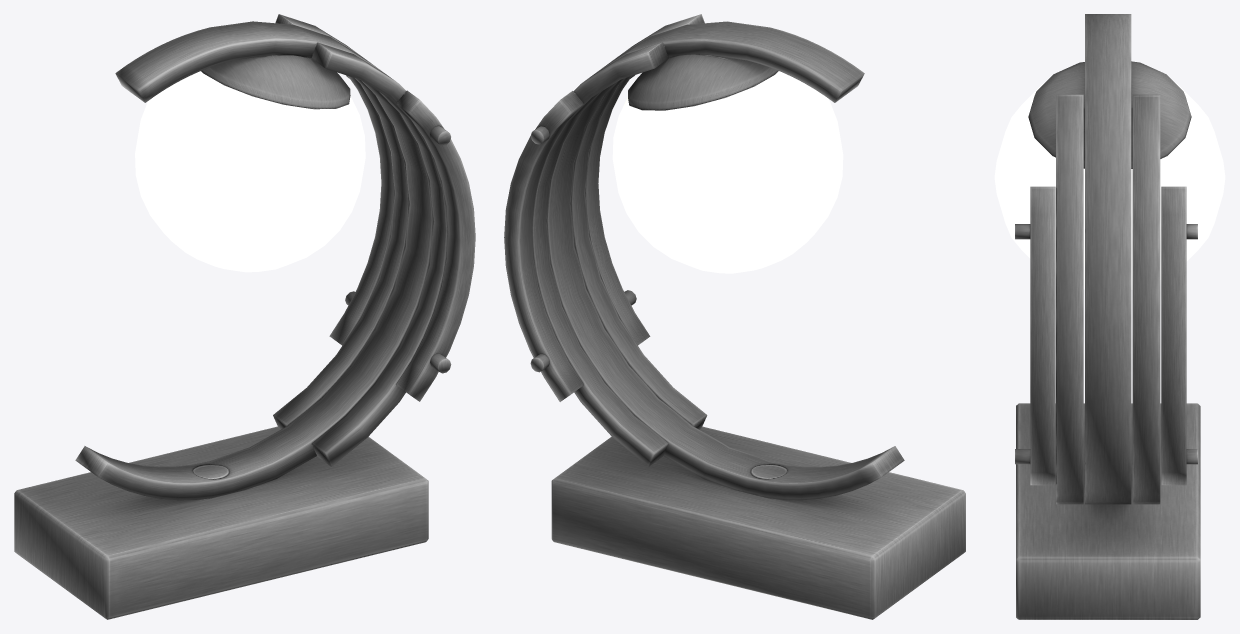
The model's file is lamp.gltf.
The picture shows the model from 3 angles, left to right: view 1: azimuth 30°, elevation 25°; view 2: azimuth 150°, elevation 25°; view 3: azimuth 270°, elevation 25°; orthographic projection.
Visible parts, largest first — view 1: lamp_deskA_01; view 2: lamp_deskA_01; view 3: lamp_deskA_01.
Part boxes in pixels (left/top/right/bottom): lamp_deskA_01: left=14, top=14, right=475, bottom=619; lamp_deskA_01: left=504, top=14, right=965, bottom=619; lamp_deskA_01: left=994, top=14, right=1225, bottom=619.
Bounding box in the file's own units: 37.24 × 48.35 × 20.
Materials: 1 (1 with a texture image).
